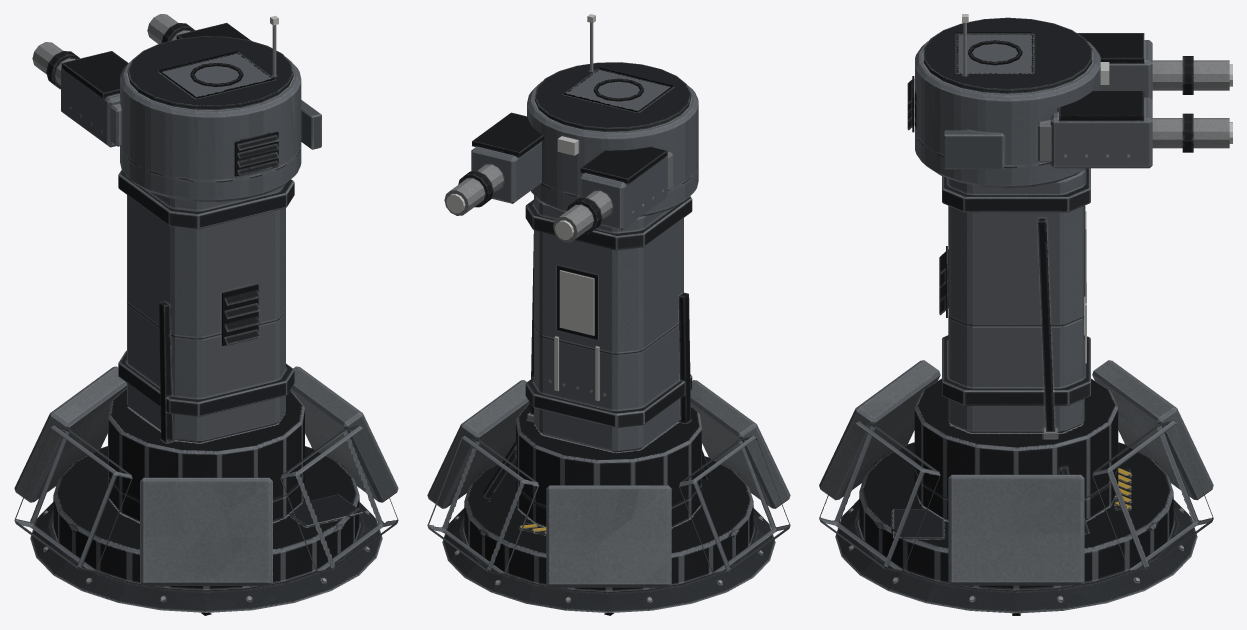
File: chs_twin_guard.fbx
3 views of the same model, side by side, from view 1: azimuth 30°, elevation 25°; view 2: azimuth 150°, elevation 25°; view 3: azimuth 270°, elevation 25° (orthographic). The views are drawn at different scales.
Visible parts, largest first — view 1: base_bar, turret_bar, barrel1_bar, barrel2_bar; view 2: base_bar, turret_bar, barrel1_bar, barrel2_bar, base_glow_power_bar, base_glow_running_bar; view 3: base_bar, turret_bar, barrel2_bar, barrel1_bar, mount_bar.
Boxes of the visible parts, x1=… form: base_bar: x1=14, y1=170, x2=398, y2=612; turret_bar: x1=120, y1=25, x2=321, y2=202; barrel1_bar: x1=32, y1=42, x2=128, y2=147; barrel2_bar: x1=147, y1=14, x2=251, y2=43; base_bar: x1=427, y1=195, x2=790, y2=612; turret_bar: x1=527, y1=22, x2=698, y2=216; barrel1_bar: x1=553, y1=146, x2=667, y2=242; barrel2_bar: x1=444, y1=112, x2=543, y2=215; base_glow_power_bar: x1=559, y1=270, x2=594, y2=335; base_glow_running_bar: x1=554, y1=336, x2=599, y2=400; base_bar: x1=819, y1=168, x2=1213, y2=613; turret_bar: x1=907, y1=17, x2=1100, y2=188; barrel2_bar: x1=1050, y1=90, x2=1229, y2=168; barrel1_bar: x1=1077, y1=33, x2=1229, y2=100; mount_bar: x1=1037, y1=120, x2=1051, y2=162.
Bounding box in the file's own units: 894 × 1606 × 971.
2 materials, 2 textured.
